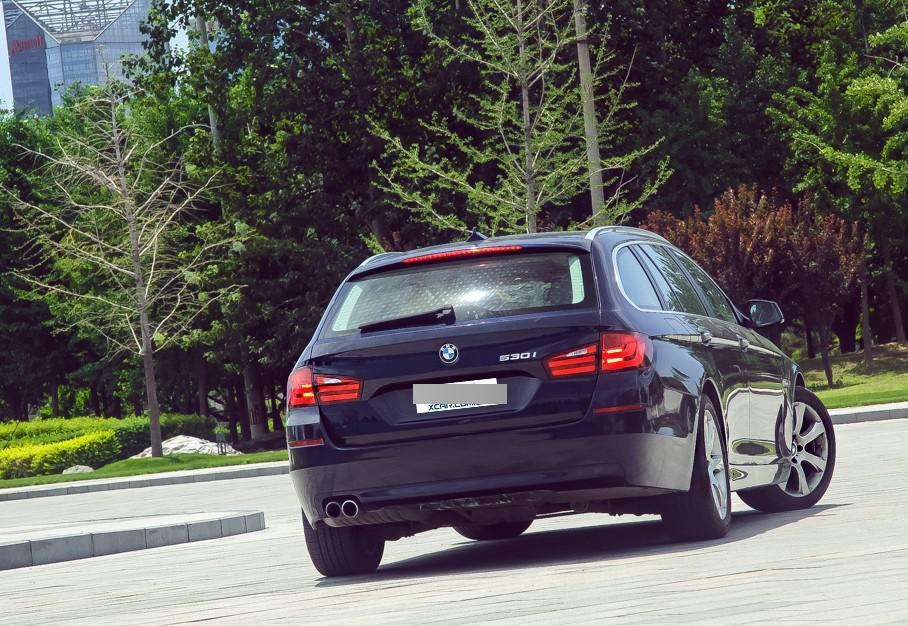Wagon: (284, 226, 837, 576)
